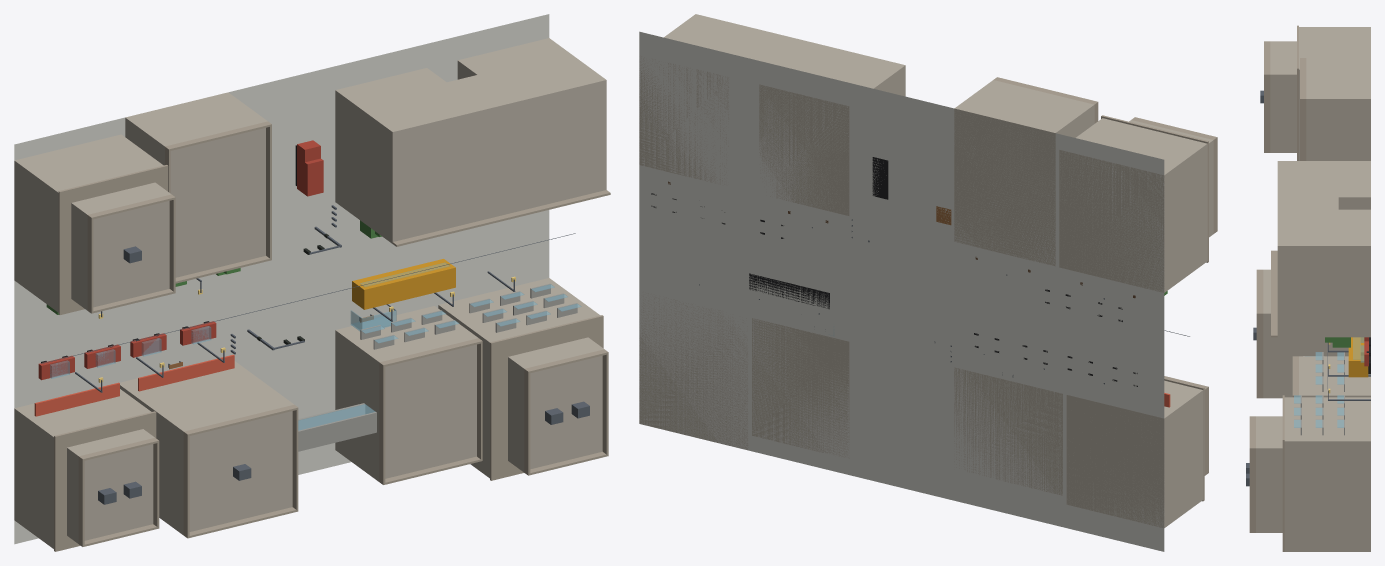
Rendered from street-block.obj.
The picture shows the model from 3 angles, left to right: view 1: azimuth 30°, elevation 25°; view 2: azimuth 150°, elevation 25°; view 3: azimuth 270°, elevation 25°; orthographic projection. The views are drawn at different scales.
Visible parts, largest first — view 1: ground-visual-only, ne-west-mass, sw-tower-mass, se-low-mass, nw-low-mass, ne-east-mass, nw-corner-base, se-tower-upper, nw-corner-upper, sw-corner-upper, sw-corner-base, se-tower-base (+16 smaller); view 2: ground-visual-only, nw-corner-base, nw-low-mass, sw-corner-base, ne-west-mass, se-low-mass, se-tower-base, sw-tower-mass, ne-east-mass, bus-chassis, ne-passage-roof, nw-corner-upper; view 3: se-tower-base, ne-east-mass, nw-low-mass, ne-west-mass, sw-tower-mass, se-tower-upper, nw-corner-upper, se-low-mass, nw-corner-base, ne-passage-roof, bus-body, sw-tower-parapet-e (+13 smaller).
Boxes of the visible parts, x1,y1,x2,y2 form: ground-visual-only: (14, 14, 549, 544); ne-west-mass: (335, 68, 484, 243); sw-tower-mass: (119, 361, 293, 535); se-low-mass: (335, 306, 478, 481); nw-low-mass: (125, 92, 267, 277); ne-east-mass: (457, 38, 606, 212); nw-corner-base: (14, 134, 163, 312); se-tower-upper: (508, 337, 603, 472); nw-corner-upper: (71, 182, 171, 310); sw-corner-upper: (67, 429, 154, 543); sw-corner-base: (14, 389, 151, 548); se-tower-base: (438, 278, 600, 478); ground-visual-only: (639, 31, 1164, 551); nw-corner-base: (1059, 118, 1207, 292); nw-low-mass: (954, 80, 1094, 266); sw-corner-base: (1066, 380, 1203, 528); ne-west-mass: (759, 43, 905, 215); se-low-mass: (752, 318, 849, 458); se-tower-base: (639, 293, 748, 449); sw-tower-mass: (954, 367, 1062, 495); ne-east-mass: (639, 14, 784, 184); bus-chassis: (749, 273, 829, 309); ne-passage-roof: (754, 36, 815, 66); nw-corner-upper: (1129, 120, 1213, 237); se-tower-base: (1284, 397, 1370, 551); ne-east-mass: (1277, 209, 1370, 337); nw-low-mass: (1306, 58, 1370, 160); ne-west-mass: (1277, 161, 1370, 209); sw-tower-mass: (1263, 269, 1348, 398); se-tower-upper: (1256, 416, 1282, 532); nw-corner-upper: (1270, 41, 1296, 152); se-low-mass: (1299, 356, 1370, 397); nw-corner-base: (1299, 27, 1370, 160); ne-passage-roof: (1277, 197, 1338, 209); bus-body: (1348, 337, 1368, 377); sw-tower-parapet-e: (1256, 315, 1263, 396).
Size of the model in its own units: 70 by 50 by 17.4.
